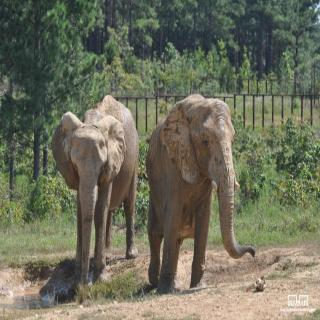Elephant: (142, 93, 258, 296), (50, 92, 142, 290)
